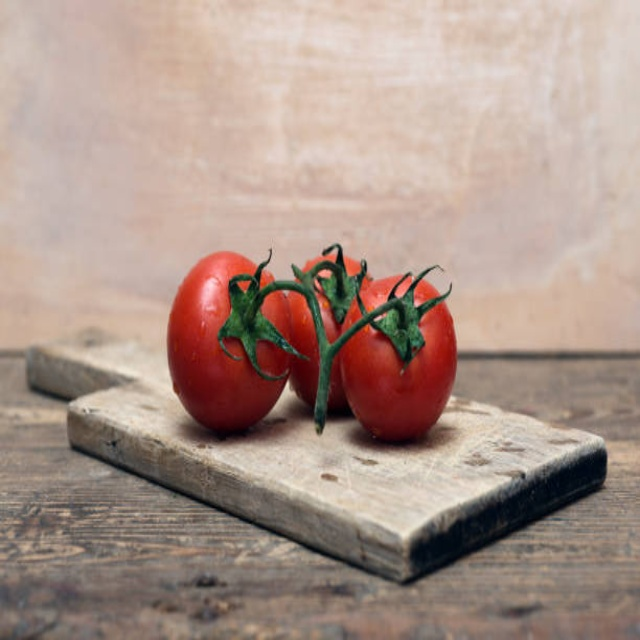tomato: (164, 254, 295, 437), (283, 250, 383, 415), (351, 282, 458, 434)
